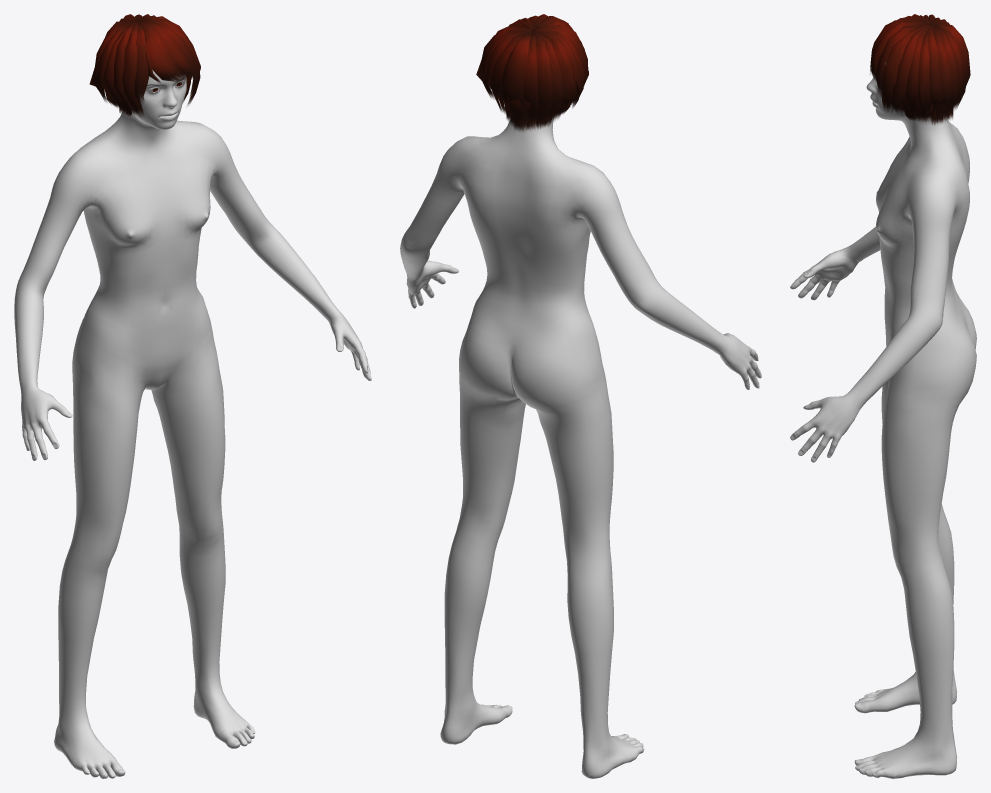
File: figure.glb
3 views of the same model, side by side, from view 1: azimuth 30°, elevation 25°; view 2: azimuth 150°, elevation 25°; view 3: azimuth 270°, elevation 25° (orthographic).
Visible parts, largest first — view 1: Human, Human.littleright_bobcut_hair; view 2: Human, Human.littleright_bobcut_hair; view 3: Human, Human.littleright_bobcut_hair.
Part boxes in pixels (x1,y1,x2,y2): Human: (14,70,371,778); Human.littleright_bobcut_hair: (89,14,200,117); Human: (400,117,761,778); Human.littleright_bobcut_hair: (476,14,588,131); Human: (790,62,976,778); Human.littleright_bobcut_hair: (869,14,970,125).
Bounding box in the file's own units: 0.8855 × 1.81 × 0.427.
Materials: 4 (4 with a texture image).
